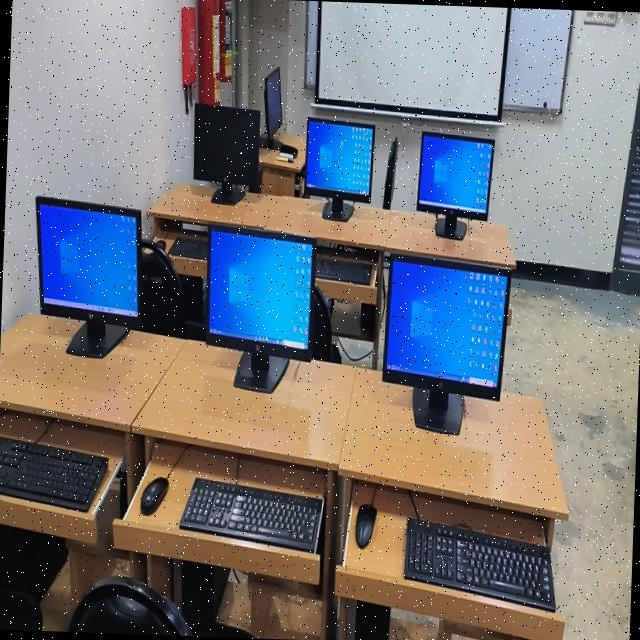Chair: (66, 575, 254, 638), (138, 239, 186, 336), (311, 284, 340, 362), (0, 587, 41, 630), (382, 136, 396, 207)
Cpu: (0, 524, 66, 601), (172, 558, 229, 620), (344, 598, 389, 640)
Fire Extinguisher: (197, 0, 219, 103), (218, 0, 232, 81)
Keyboard: (403, 517, 554, 610), (179, 476, 323, 551), (0, 437, 107, 511), (315, 247, 375, 284), (167, 236, 206, 258)
Monitor: (381, 253, 511, 433), (205, 226, 314, 390), (35, 195, 140, 356), (416, 131, 493, 238), (304, 116, 373, 220), (193, 103, 259, 202), (262, 65, 281, 147)
Mouse: (139, 476, 167, 514), (354, 503, 375, 547), (153, 238, 165, 250)
